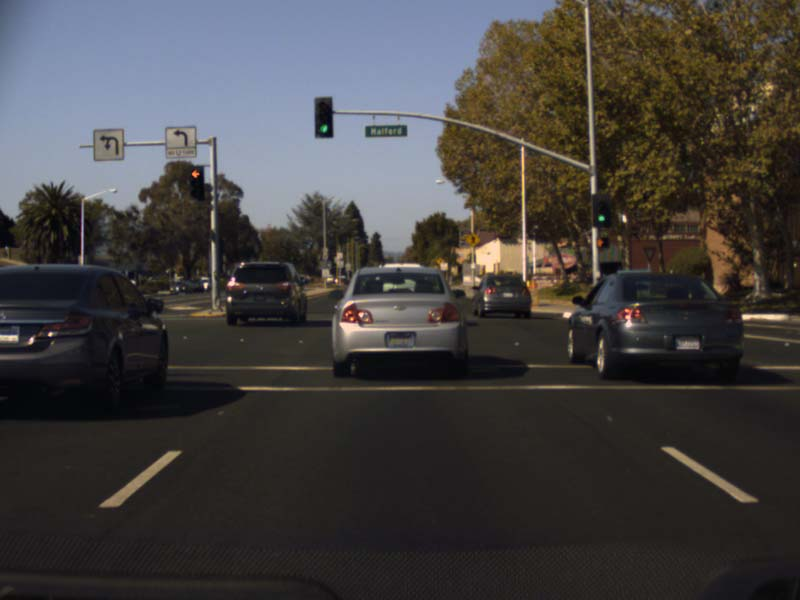Green: (315, 96, 332, 138), (592, 194, 611, 227)
Red: (187, 164, 204, 199)
